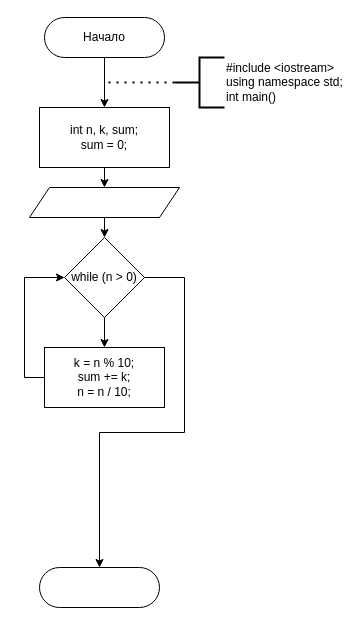
This 361x625 diagram has some shape labels left out. The shapes that lost their labels are listed below. From the top down, each one's box as (x1, y1, x2, y2) in pixels, then its label:
(28, 186, 180, 218): cin >> n;
(38, 566, 160, 608): Конец
